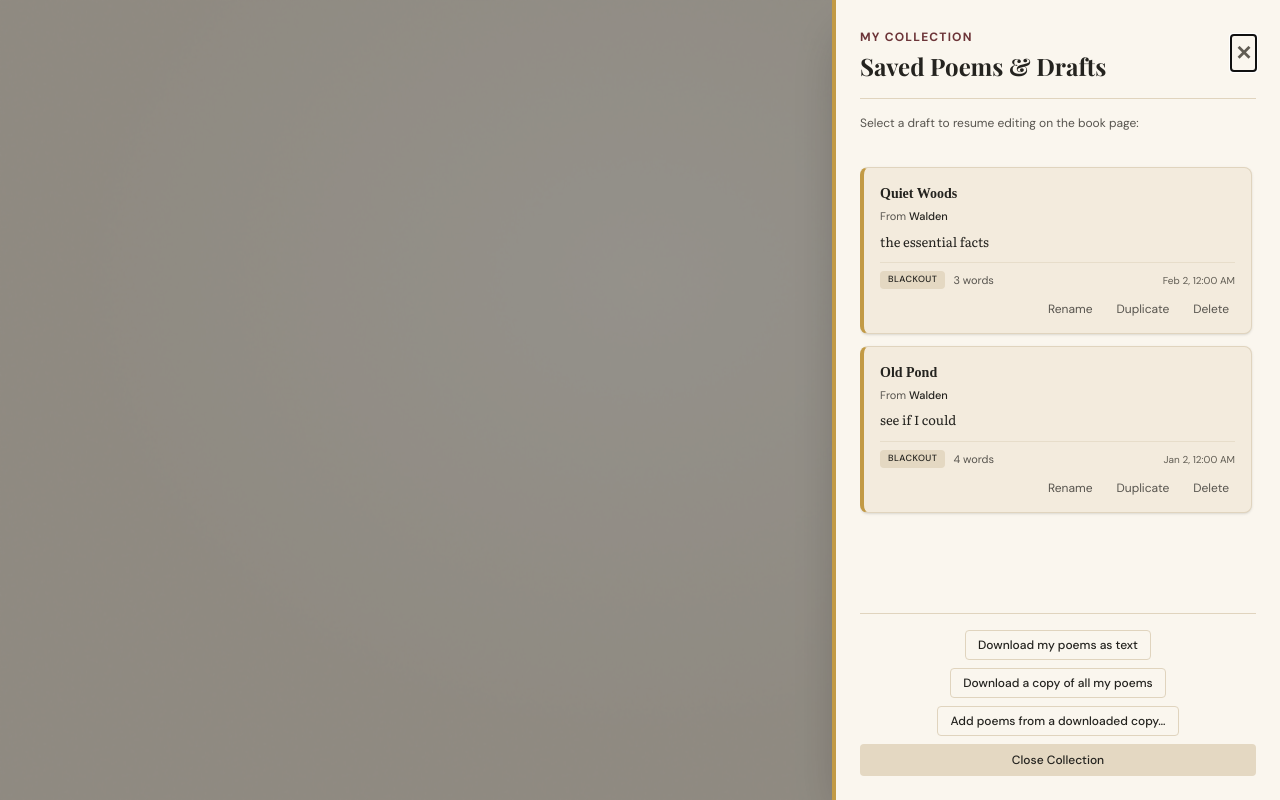
Test case: renaming › is cancelled by Escape, which does not also close the collection
Click the 2nd button "Rename".
click(1070, 488)  # box [1038, 476, 1102, 500]
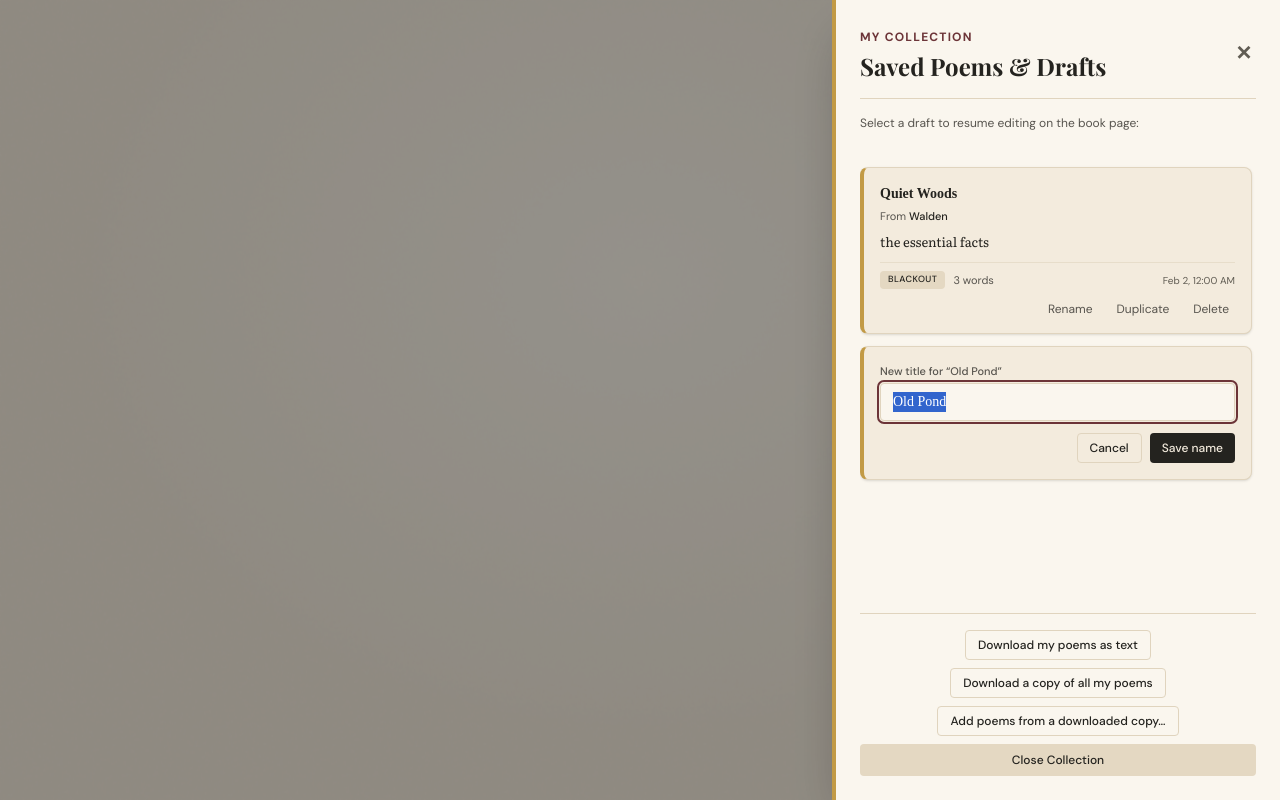
Press Escape in the field labelled "New title for “Old Pond”", box [880, 383, 1235, 421]
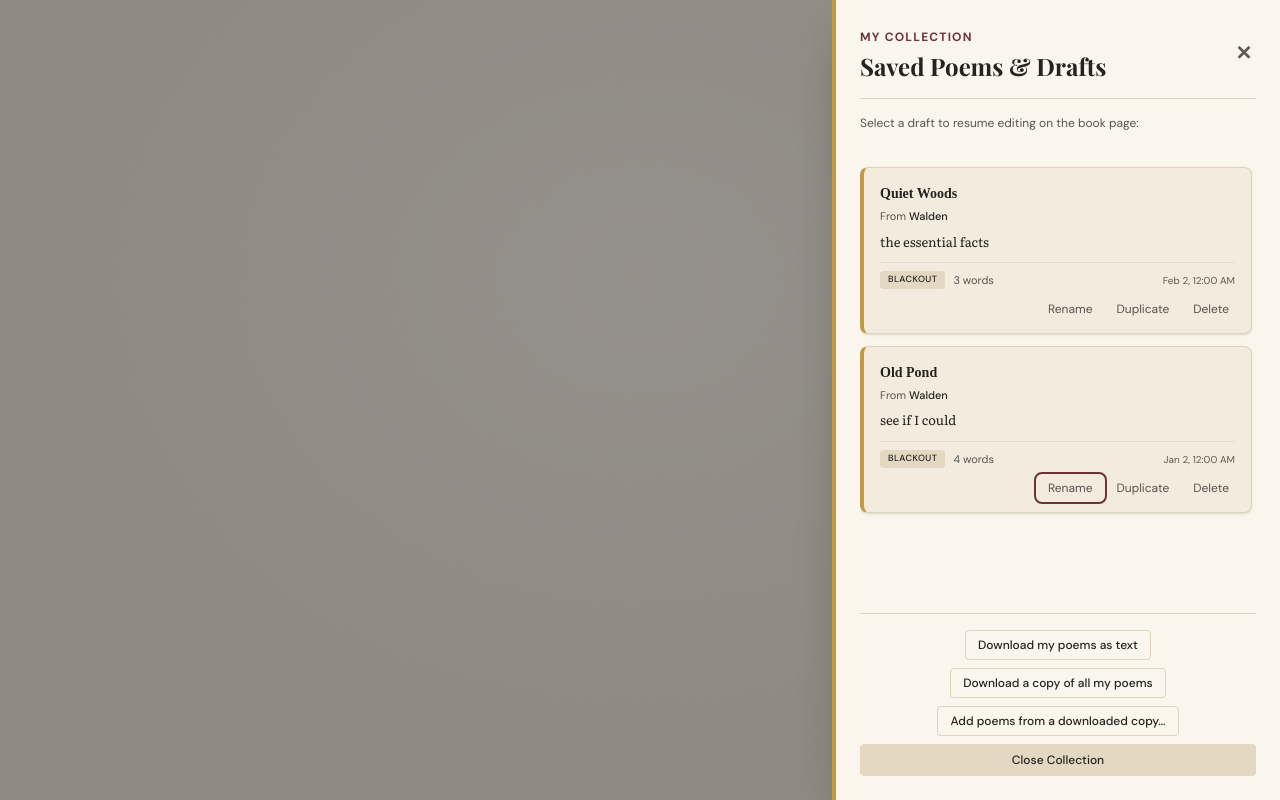
Expected: the form is gone
